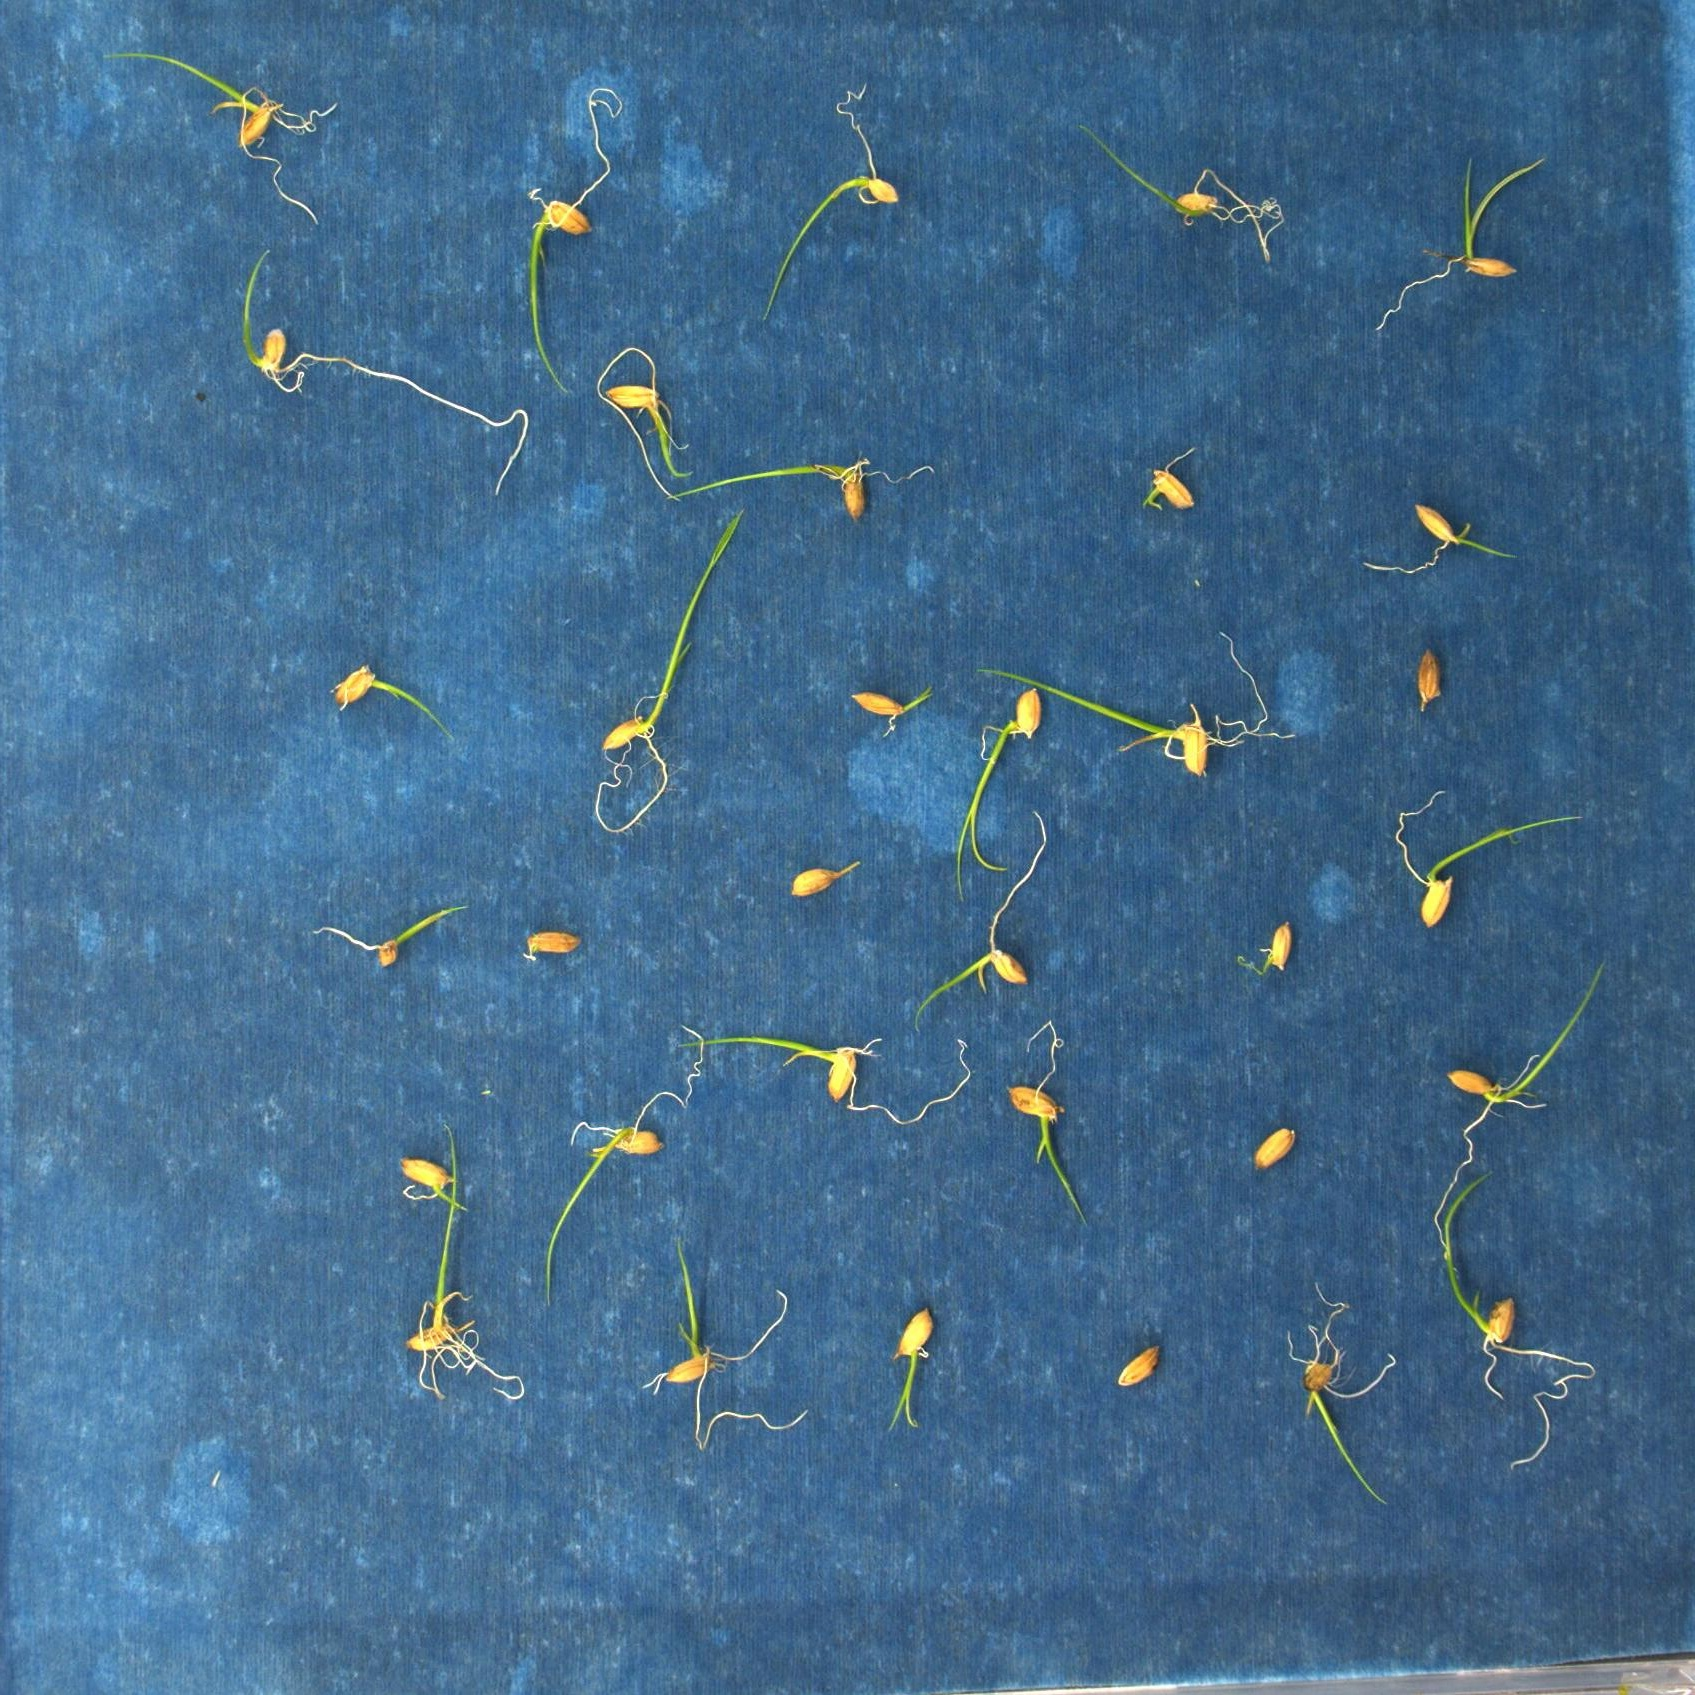not sprout: (790, 857, 863, 899), (1254, 1124, 1295, 1180), (526, 928, 585, 965), (1416, 650, 1447, 714), (1118, 1346, 1159, 1385)
sprout: (244, 248, 532, 497), (1433, 955, 1608, 1274), (975, 630, 1301, 779), (594, 509, 740, 837), (1448, 1167, 1597, 1470), (545, 1023, 705, 1304), (101, 48, 335, 227), (646, 1236, 802, 1451), (405, 1121, 525, 1403), (764, 81, 896, 321), (1367, 154, 1544, 331), (913, 809, 1051, 1035), (528, 82, 627, 393), (1077, 123, 1288, 265), (681, 1035, 972, 1125), (1399, 789, 1585, 928), (1287, 1281, 1400, 1506), (958, 688, 1043, 900), (1007, 1021, 1090, 1226), (671, 459, 934, 522), (598, 346, 694, 504), (1364, 504, 1515, 577), (310, 903, 470, 972), (334, 664, 456, 745), (886, 1309, 941, 1433), (851, 685, 934, 744), (1139, 441, 1201, 514), (397, 1155, 467, 1211), (1236, 920, 1295, 979)
